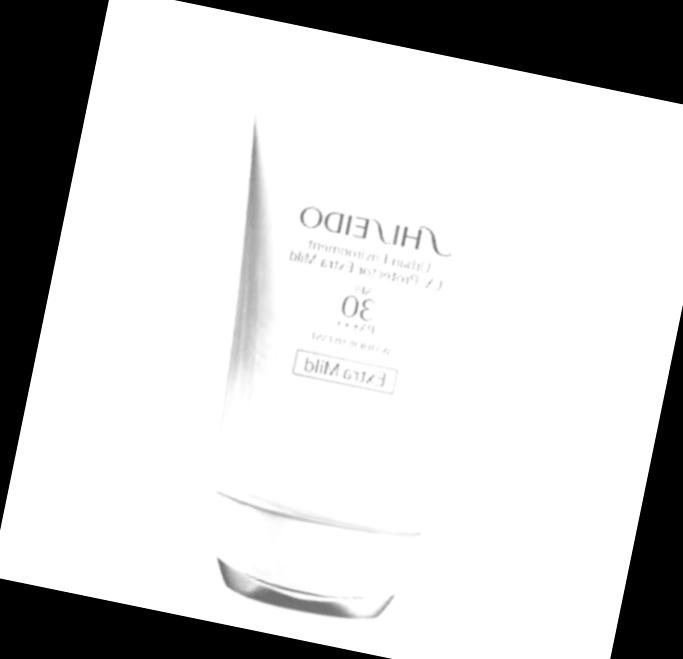cosmetic: (153, 87, 539, 644)
